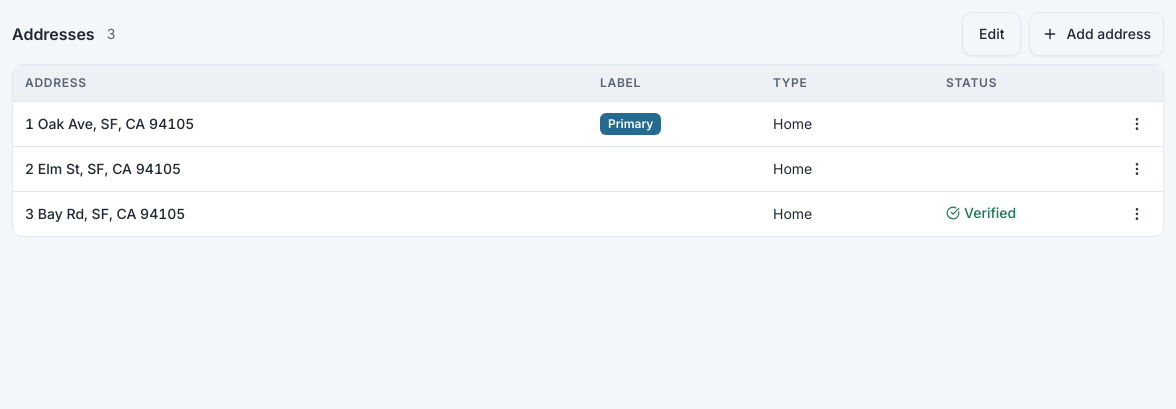
AddressesSection: Make primary (Story 4.4) › one PUT B { primary: true }, refetch, B on top, "Addresses saved.", h2 focused; no confirm
Press Enter in the button named "More actions for 3 Bay Rd, SF, CA 94105", box top-left (1115, 192), bottom-right (1159, 236)
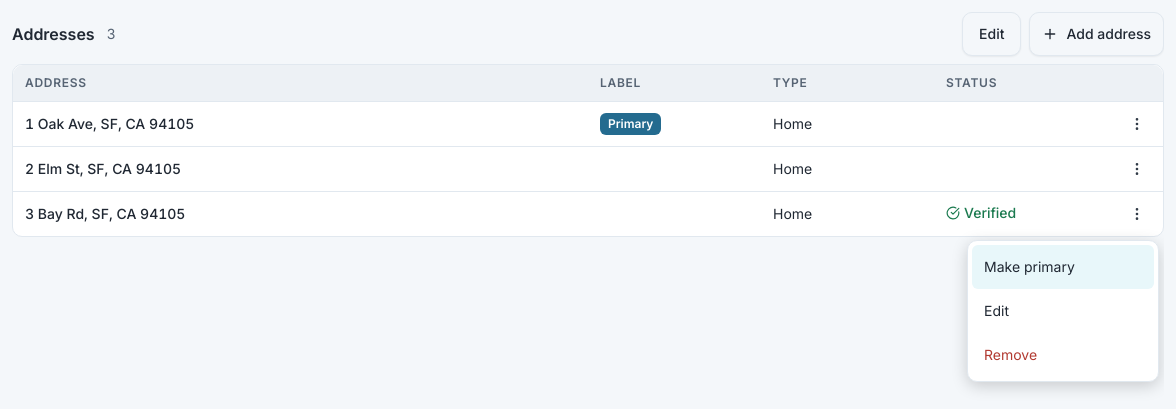
Click the menu item "Make primary" at [1063, 267], box top-left (972, 245), bottom-right (1154, 289)
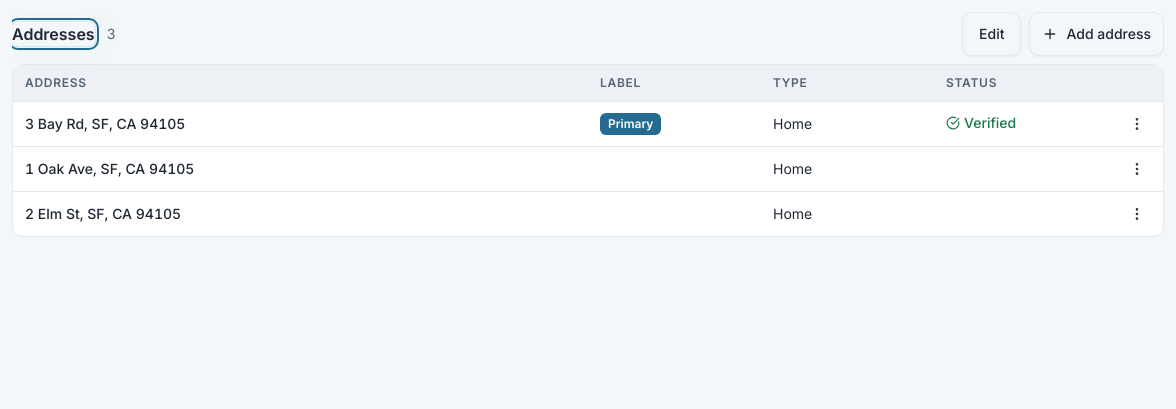
Check: the text "3 Bay Rd, SF, CA 94105" is shown, box top-left (25, 114), bottom-right (185, 134)
Check: the menu is gone
